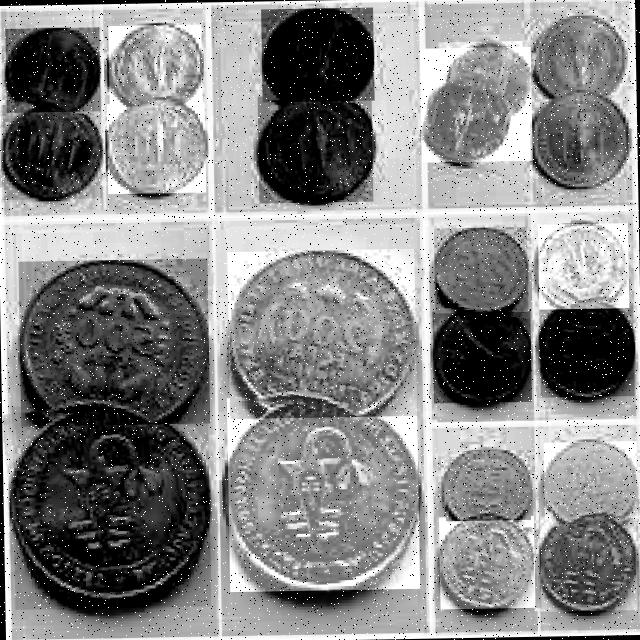derem: (258, 95, 371, 202), (262, 8, 372, 101)
fukk: (540, 515, 636, 610), (439, 517, 534, 608), (544, 441, 636, 522), (445, 451, 530, 521)
juroom derem: (433, 311, 530, 402), (539, 304, 633, 397), (434, 228, 527, 312), (538, 223, 628, 309)
niaari derem: (1, 105, 100, 199), (107, 103, 204, 193), (6, 28, 99, 111), (109, 25, 200, 106)
niaari fukk: (421, 48, 530, 162), (439, 42, 523, 108)
nient fukk: (227, 396, 417, 591), (228, 250, 415, 416)
teemeer: (13, 405, 209, 608), (20, 260, 208, 424)
